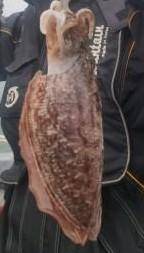Cephalopod: (19, 0, 101, 244)
